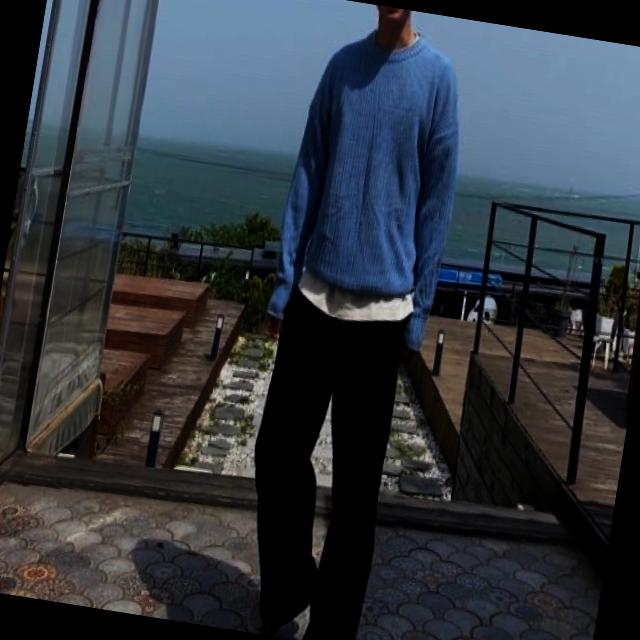slacks: (225, 284, 408, 640)
sweater: (273, 18, 485, 353)
